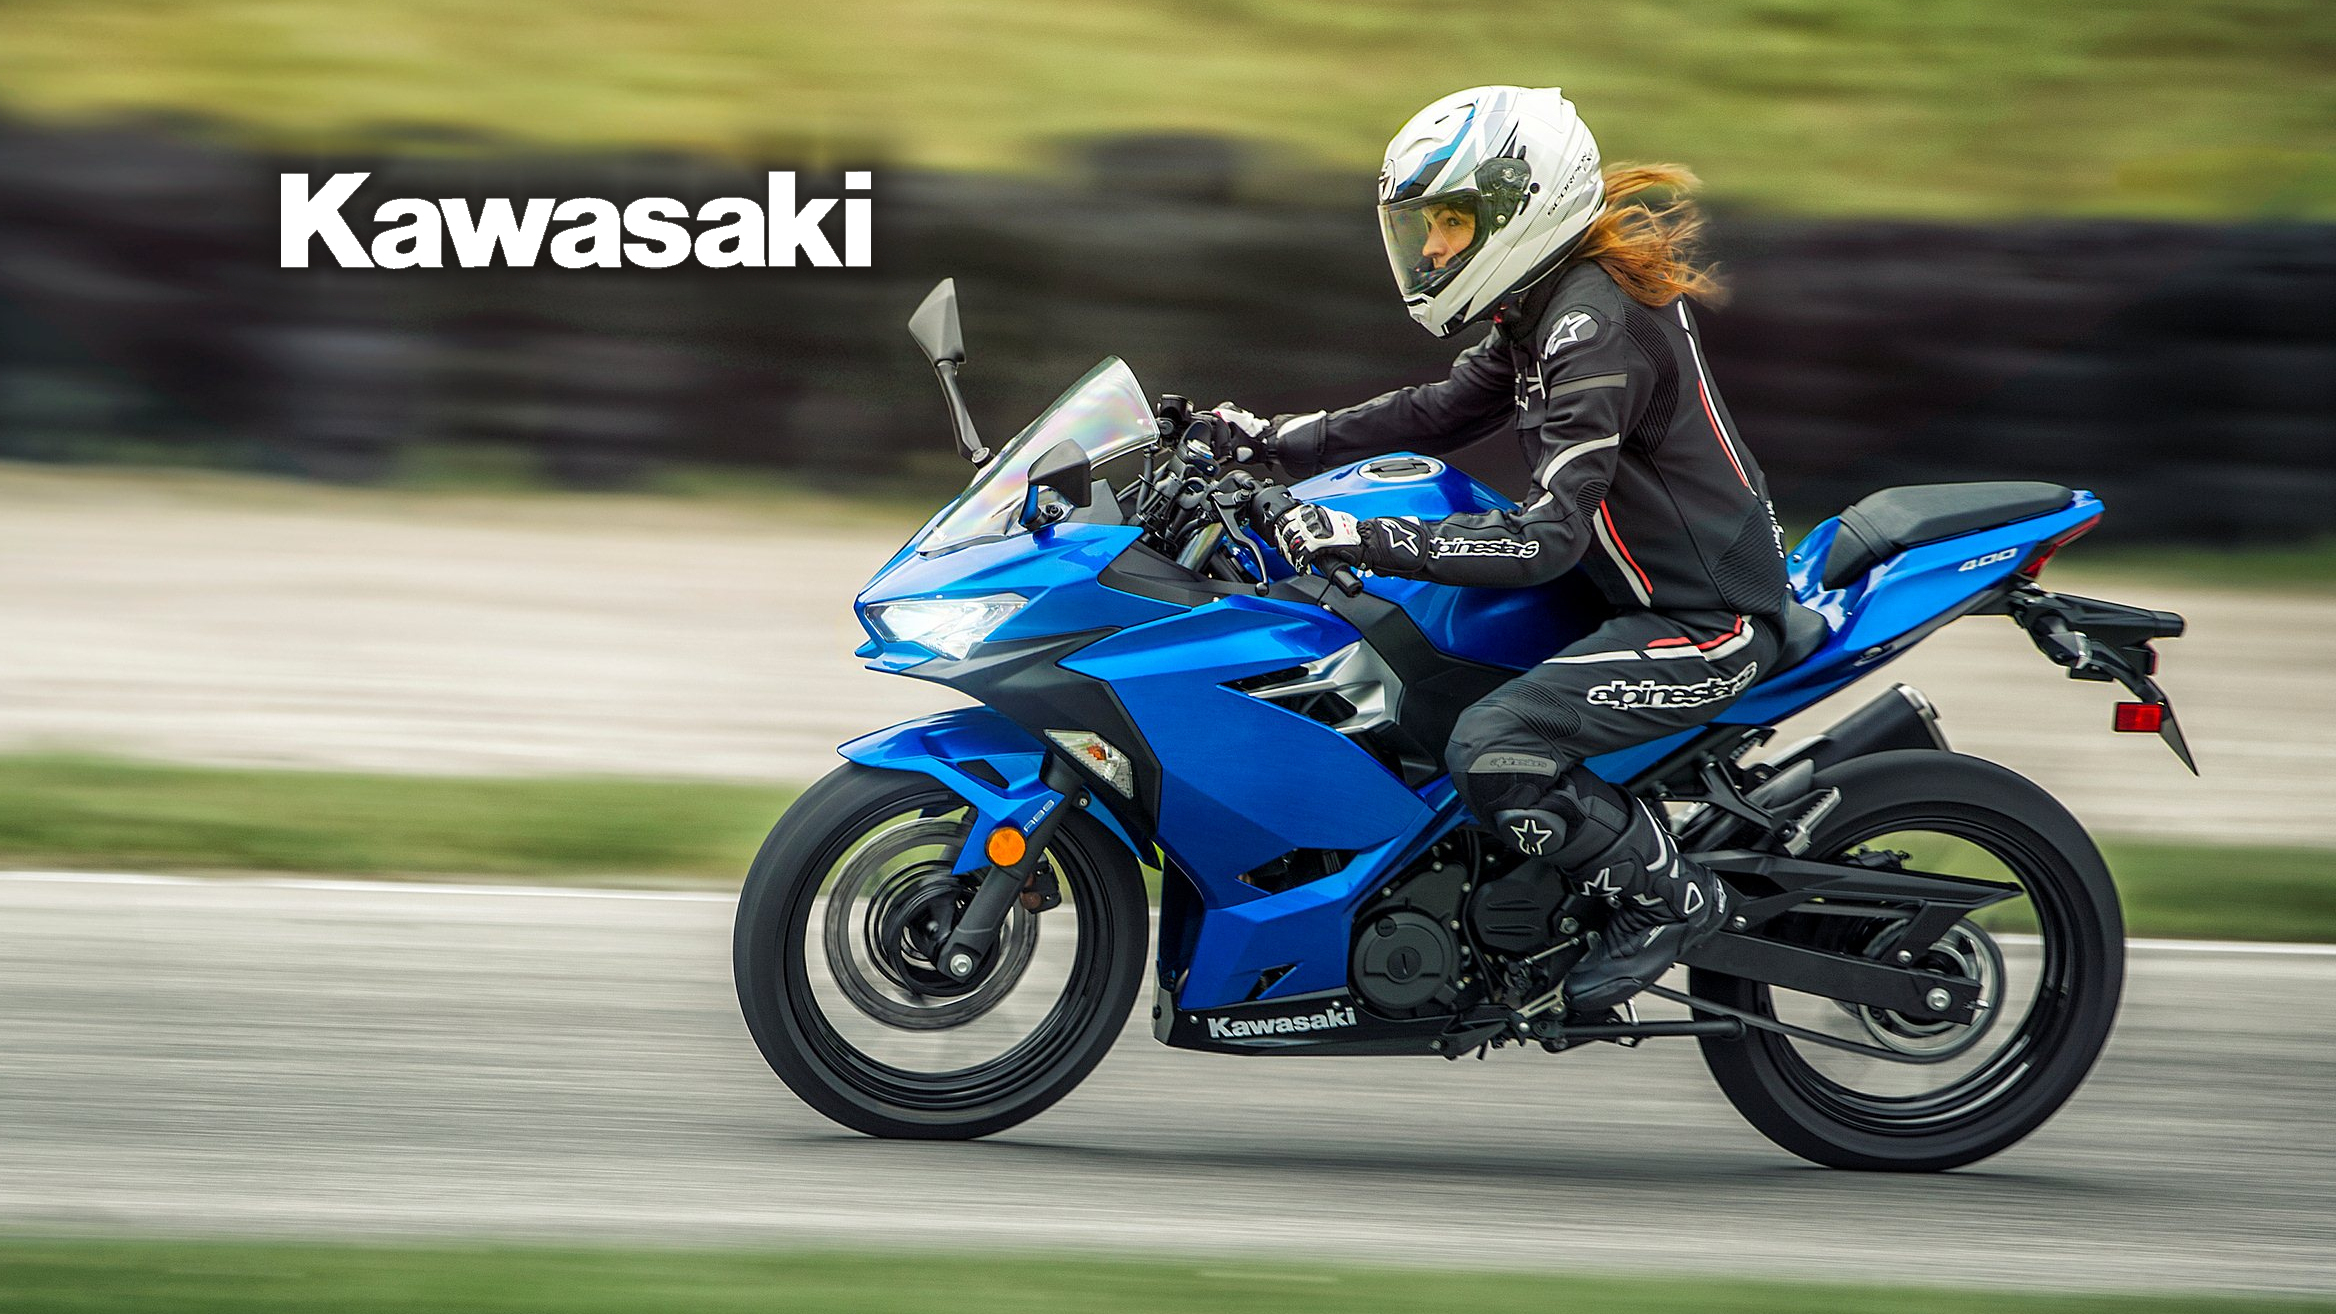helmet: (1372, 79, 1677, 337)
